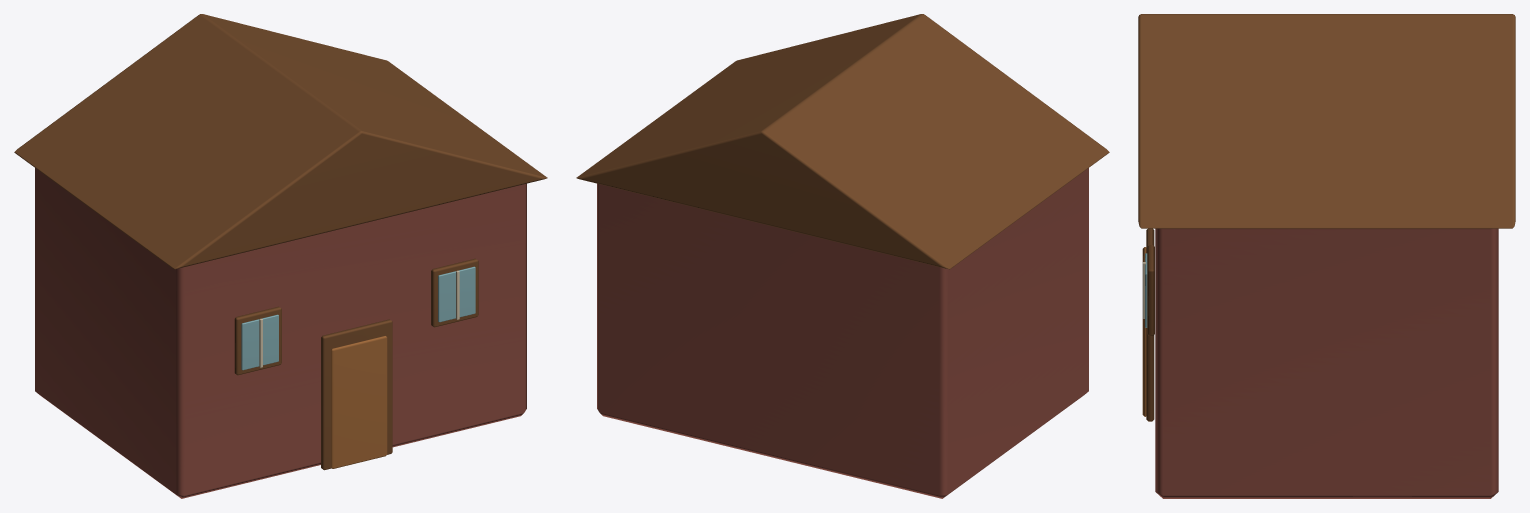
File: barn.glb
The picture shows the model from 3 angles, left to right: view 1: azimuth 30°, elevation 25°; view 2: azimuth 150°, elevation 25°; view 3: azimuth 270°, elevation 25°; orthographic projection. The views are drawn at different scales.
Visible parts, largest first — view 1: barn; view 2: barn; view 3: barn.
Part boxes in pixels (x1,y1,x2,y2): barn: (14, 14, 547, 498); barn: (576, 14, 1109, 498); barn: (1138, 14, 1515, 498).
Size of the model in its own units: 5.86 by 4.99 by 4.4.
